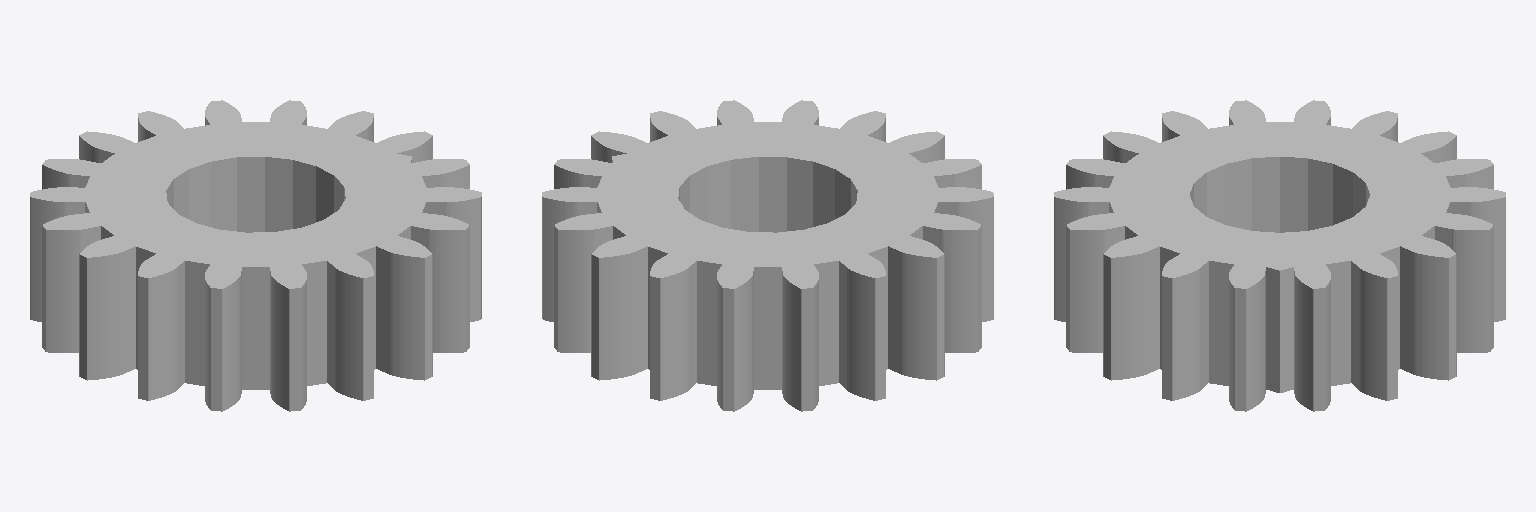
Rendered from settings.obj.
The picture shows the model from 3 angles: view 1: azimuth 30°, elevation 25°; view 2: azimuth 150°, elevation 25°; view 3: azimuth 270°, elevation 25°; orthographic projection.
Parts seen in each view (by area): view 1: obj_0; view 2: obj_0; view 3: obj_0.
Part boxes in pixels (x1,y1,x2,y2): obj_0: (30,100,481,411); obj_0: (542,100,993,411); obj_0: (1054,100,1505,411).
Bounding box in the file's own units: 19.78 × 6 × 19.99.